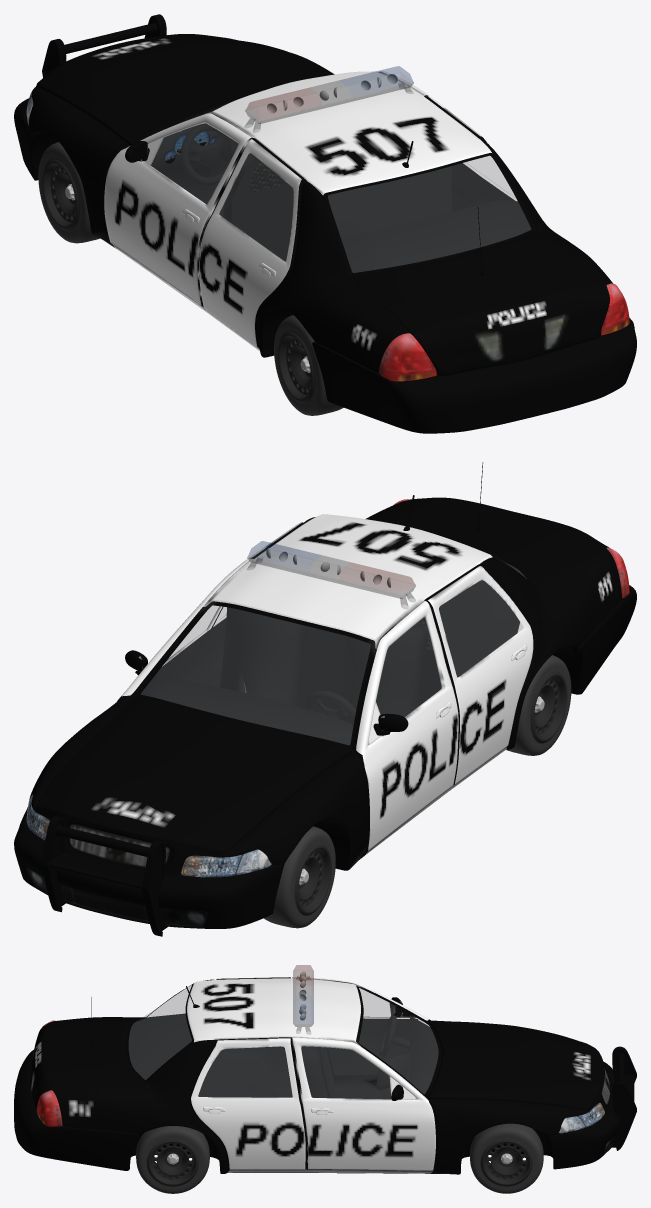
Rendered from police_car.b9b80d42eb.glb.
The picture shows the model from 3 angles, top to bottom: view 1: azimuth 30°, elevation 25°; view 2: azimuth 150°, elevation 25°; view 3: azimuth 270°, elevation 25°; orthographic projection. The views are drawn at different scales.
Visible parts, largest first — view 1: body (×3), glass, wheel_rl, wheel_fl; view 2: body (×3), glass, wheel_fl, wheel_rl; view 3: body (×3), glass, wheel_fr, wheel_rr.
Boxes of the visible parts, bbox=[...] form: body (×3): bbox=[14, 14, 636, 433]; glass: bbox=[151, 104, 530, 272]; wheel_rl: bbox=[274, 315, 343, 415]; wheel_fl: bbox=[38, 142, 99, 243]; body (×3): bbox=[14, 462, 636, 936]; glass: bbox=[141, 557, 524, 744]; wheel_fl: bbox=[264, 826, 335, 928]; wheel_rl: bbox=[507, 655, 571, 755]; body (×3): bbox=[14, 965, 636, 1174]; glass: bbox=[129, 985, 438, 1098]; wheel_fr: bbox=[470, 1123, 543, 1193]; wheel_rr: bbox=[136, 1126, 209, 1193].
Bounding box in the file's own units: 2 × 1.6 × 5.4.
Materials: 6 (4 with a texture image).
